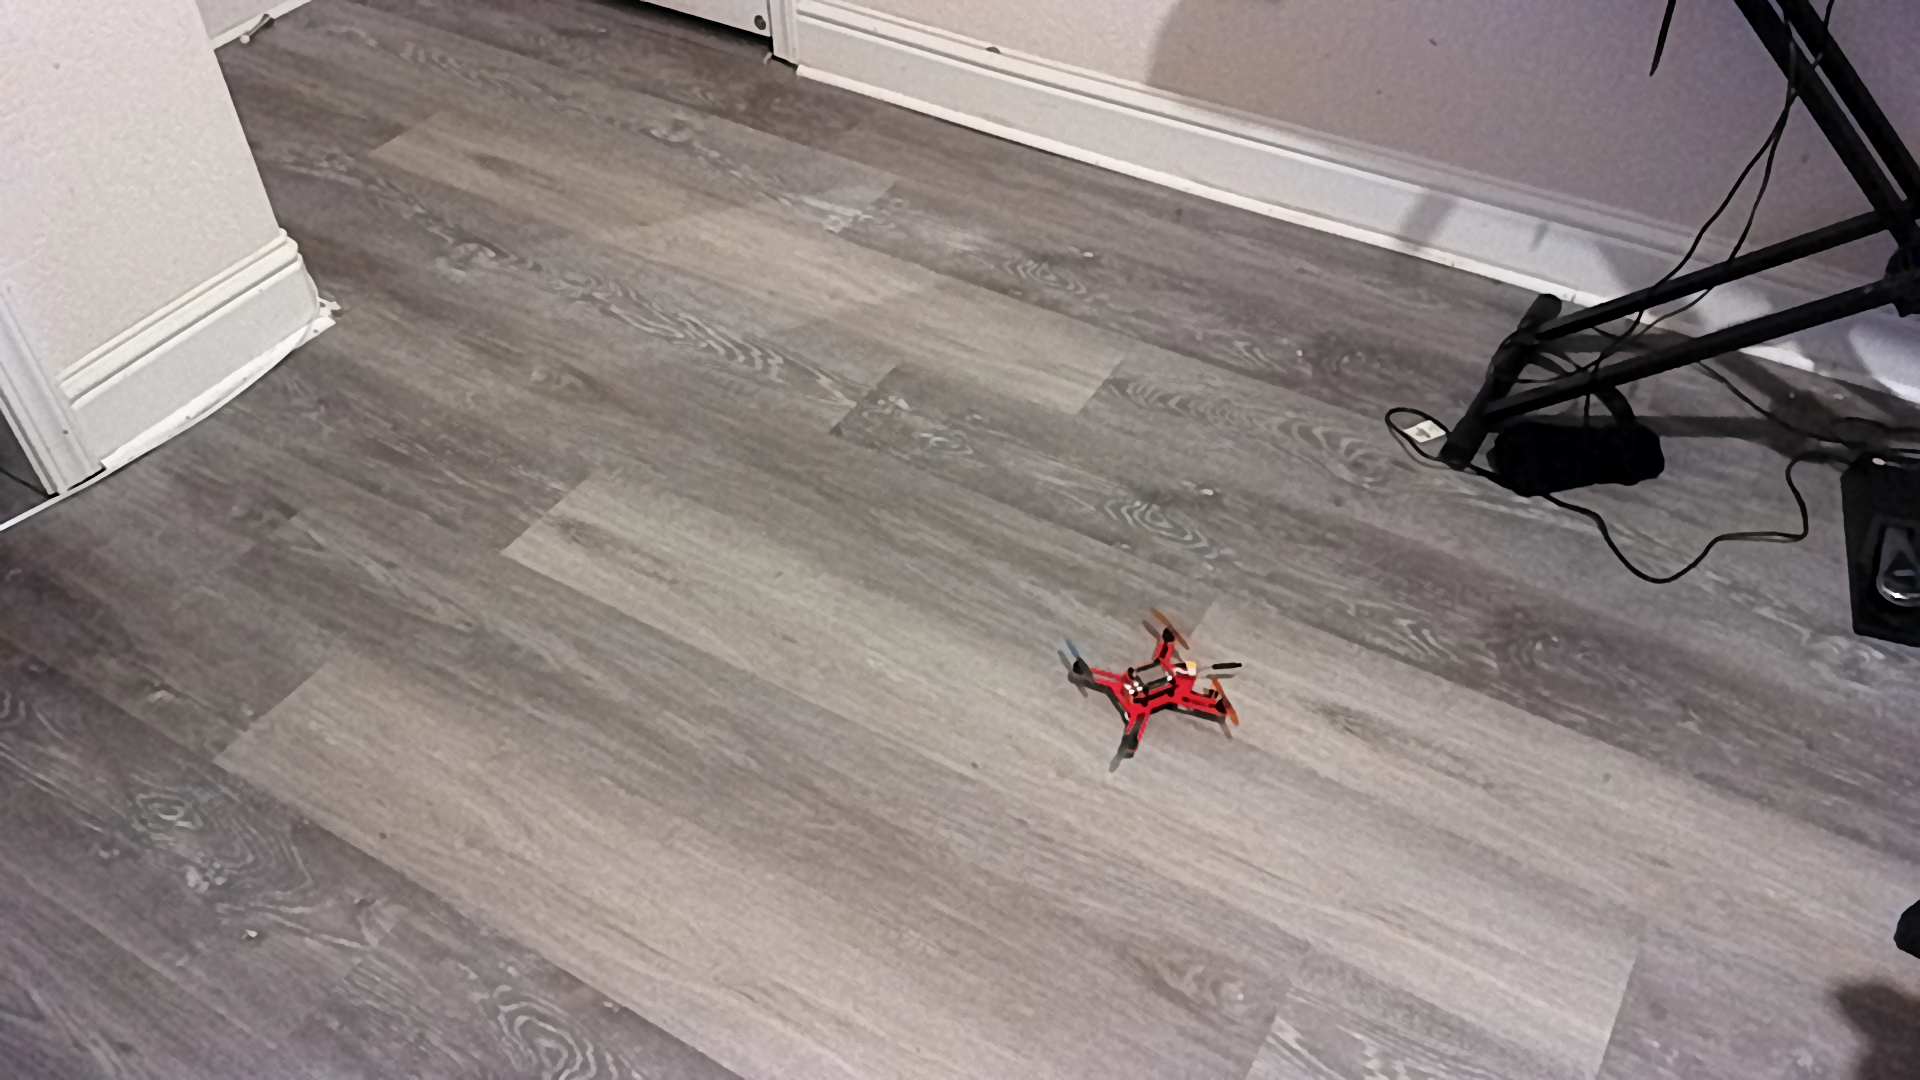drone: (1058, 601, 1273, 781)
